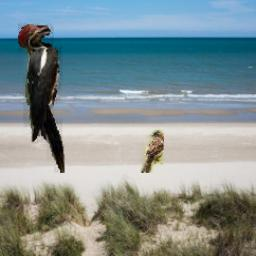Sparrow: (141, 131, 164, 174)
Woodpecker: (18, 24, 65, 174)
